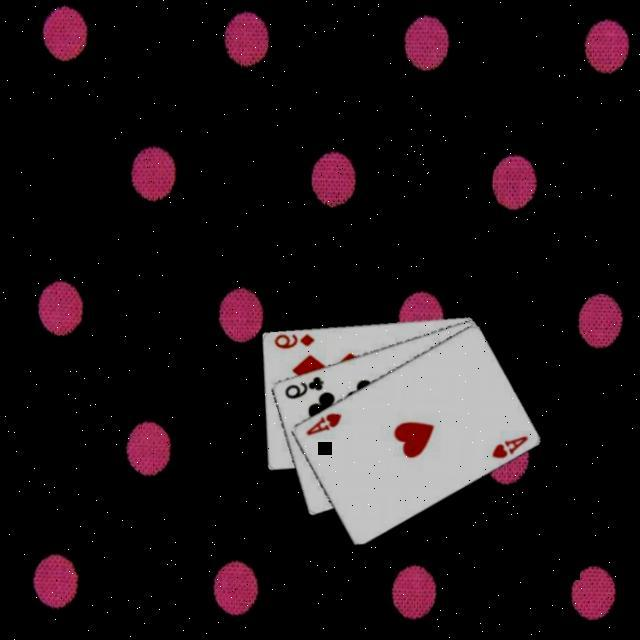9C: (280, 372, 325, 404)
9D: (270, 331, 316, 354)
AH: (486, 433, 530, 466), (302, 409, 344, 442)
